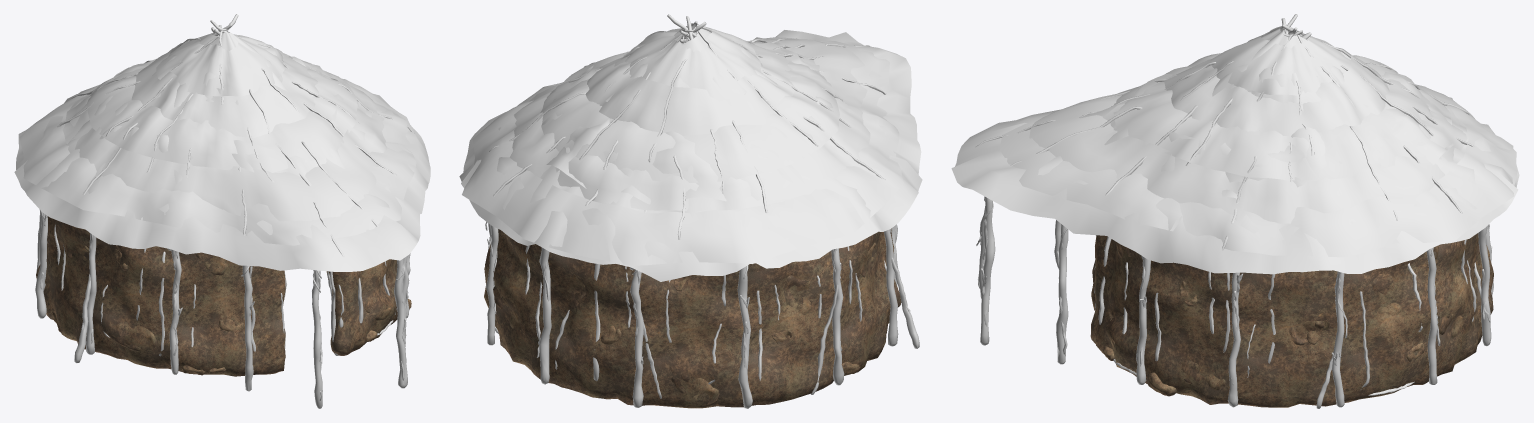
File: highpoly_african_hut_003.fbx
3 views of the same model, side by side, from view 1: azimuth 30°, elevation 25°; view 2: azimuth 150°, elevation 25°; view 3: azimuth 270°, elevation 25° (orthographic). The views are drawn at different scales.
Visible parts, largest first — view 1: highpoly_african_hut_002; view 2: highpoly_african_hut_002; view 3: highpoly_african_hut_002.
Part boxes in pixels (box(x1,y1,x2,y2)): highpoly_african_hut_002: box(14, 14, 430, 408); highpoly_african_hut_002: box(459, 14, 922, 408); highpoly_african_hut_002: box(951, 14, 1519, 408).
Size of the model in its own units: 450 by 332 by 550.
